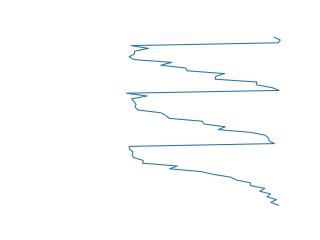distributaryMouthBar: (126, 34, 285, 209)
